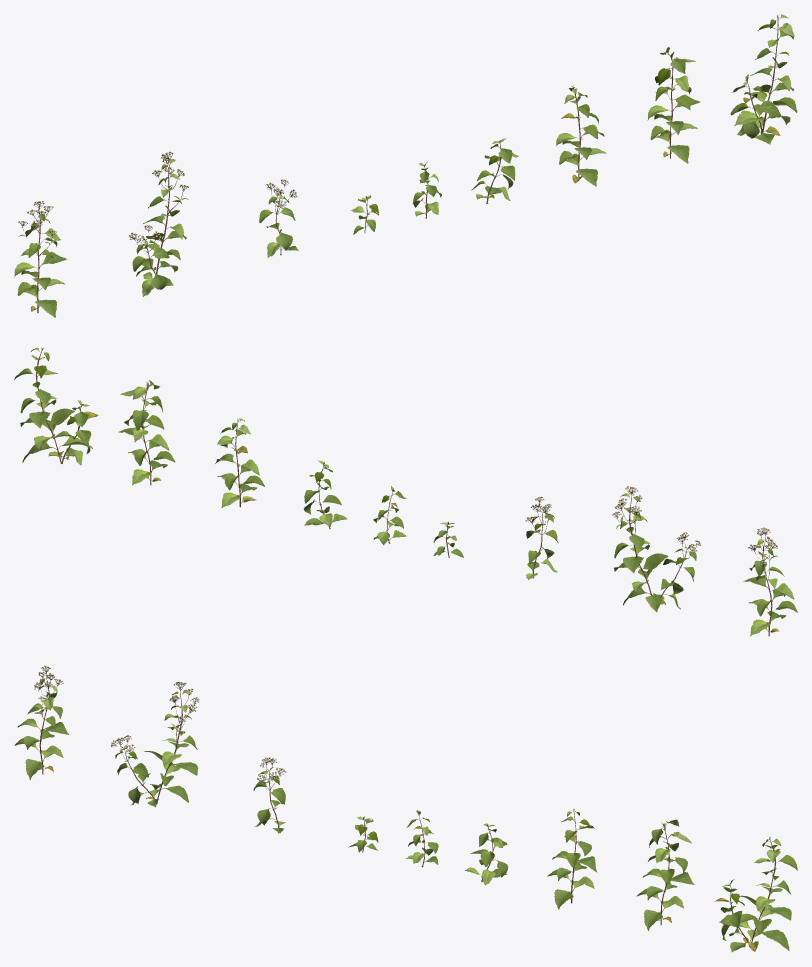
The model's file is shrub_01.glb.
3 renders of one model, top to bottom at view 1: azimuth 30°, elevation 25°; view 2: azimuth 150°, elevation 25°; view 3: azimuth 330°, elevation 25°, orthographic. The views are drawn at different scales.
Visible parts, largest first — view 1: shrub_01_a; view 2: shrub_01_a; view 3: shrub_01_a.
Boxes of the visible parts, box(x1,y1,x2,y2) form: shrub_01_a: box(14, 14, 797, 317); shrub_01_a: box(14, 347, 797, 636); shrub_01_a: box(14, 665, 797, 952).
Size of the model in its own units: 2 by 0.3061 by 0.1689.
1 material, 1 textured.
